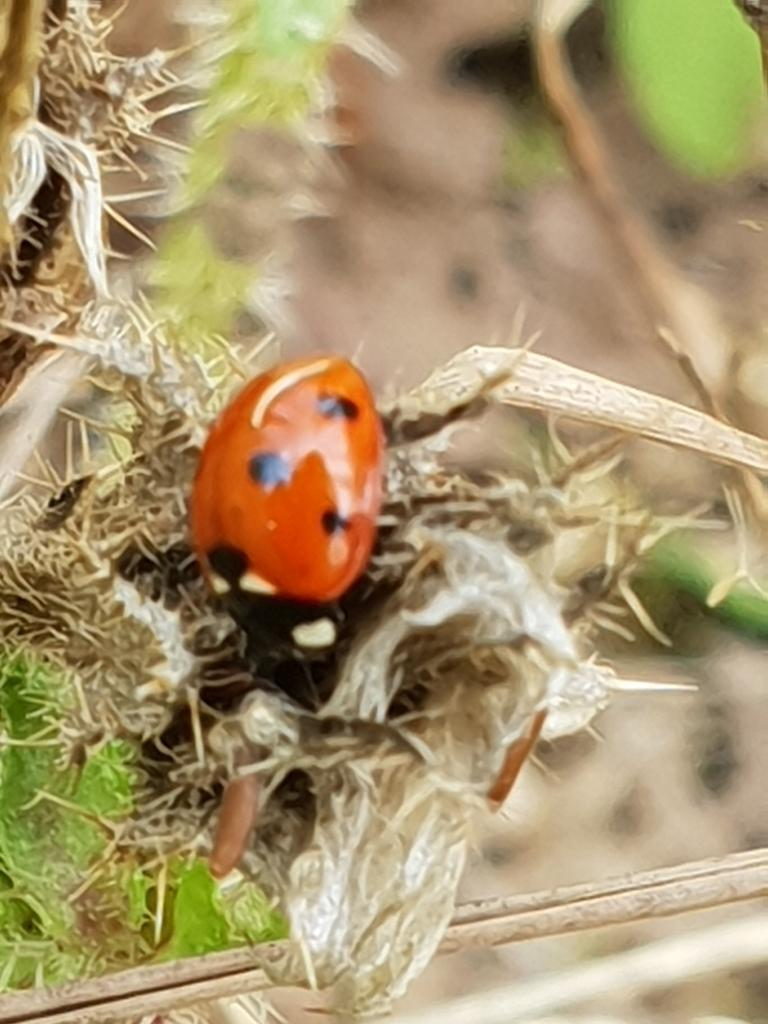ladybug: (184, 346, 401, 676)
